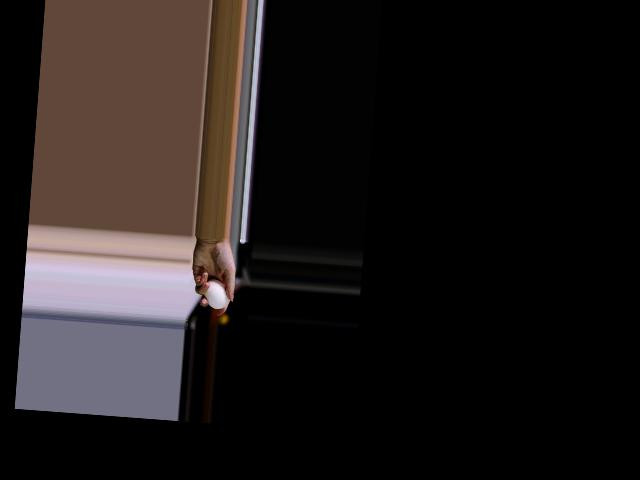egg: (203, 279, 229, 310)
